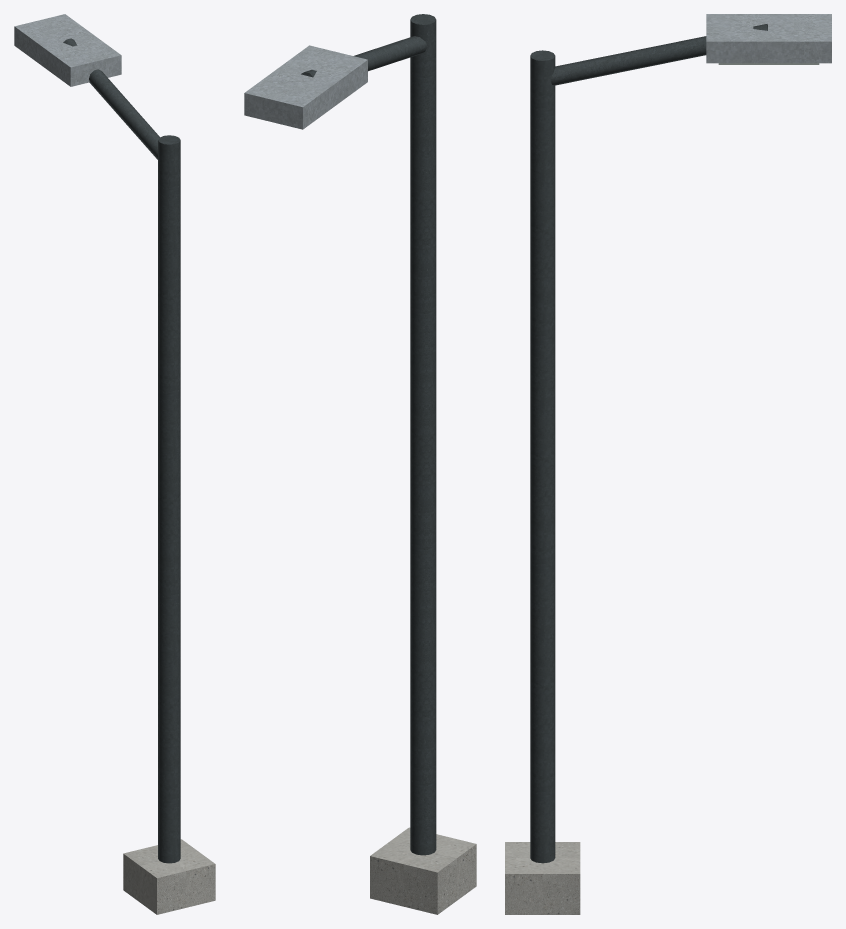
The model's file is street_lamp.glb.
The picture shows the model from 3 angles, left to right: view 1: azimuth 30°, elevation 25°; view 2: azimuth 150°, elevation 25°; view 3: azimuth 270°, elevation 25°; orthographic projection. The views are drawn at different scales.
Parts seen in each view (by area): view 1: street_lamp; view 2: street_lamp; view 3: street_lamp.
Part boxes in pixels (bbox=[...]): street_lamp: bbox=[14, 14, 215, 914]; street_lamp: bbox=[244, 14, 476, 914]; street_lamp: bbox=[505, 14, 831, 914].
Bounding box in the file's own units: 0.6 × 7.67 × 2.6.
